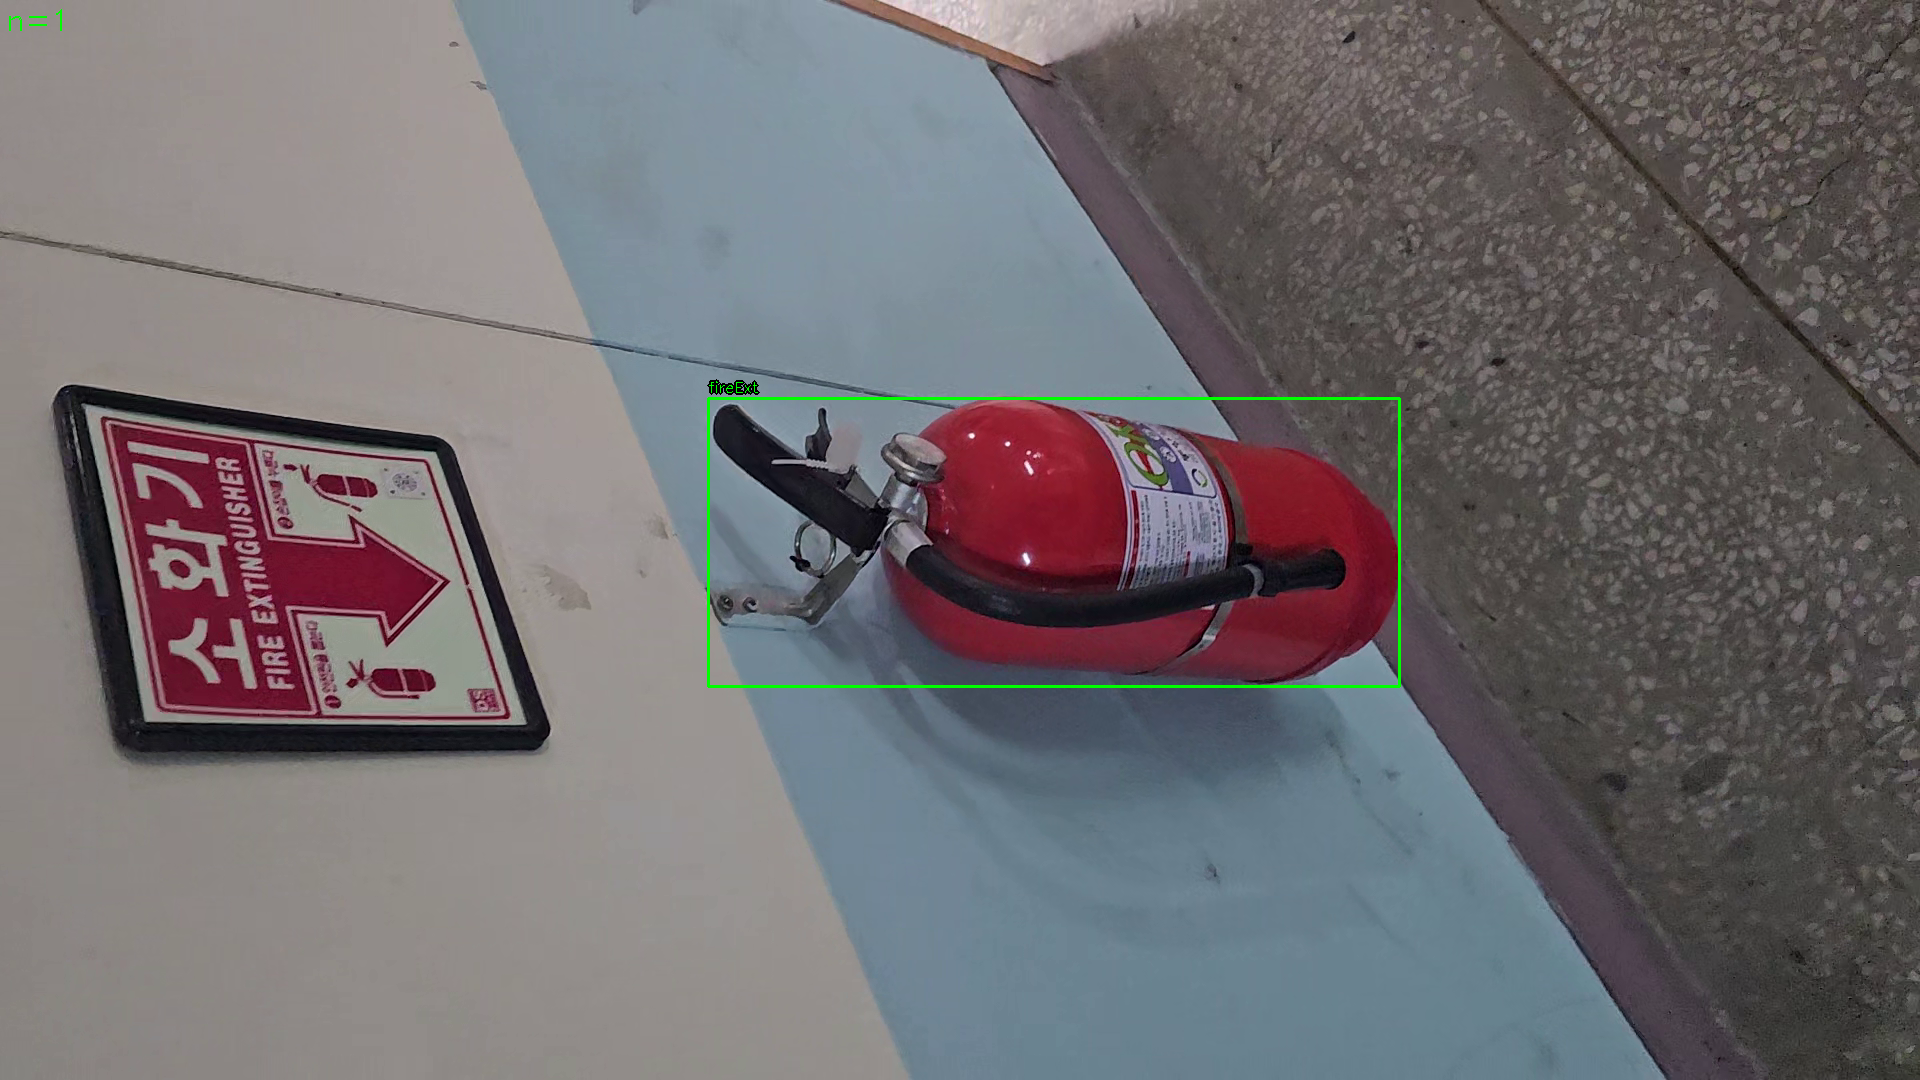lane: (708, 398, 1400, 687)
